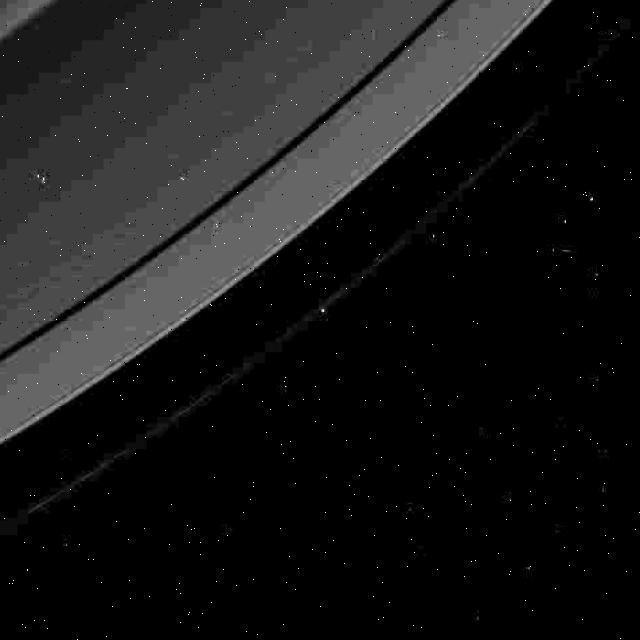Saturn: (0, 0, 640, 558)
